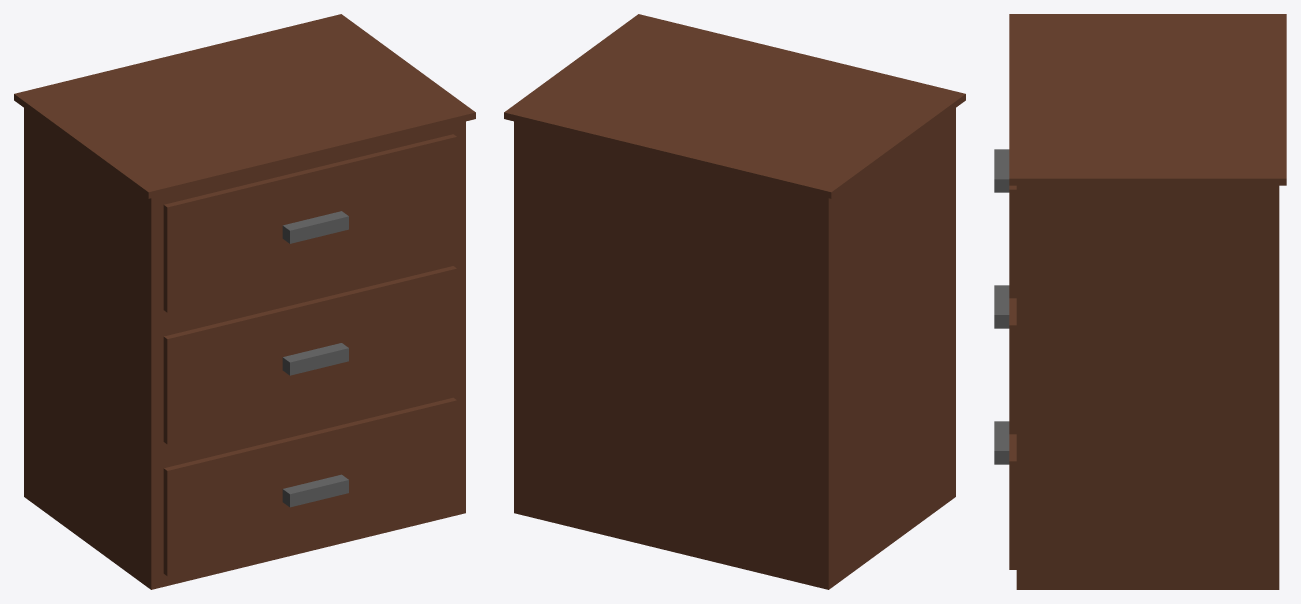
The model's file is charliroom_mesillanoche.fbx.
3 views of the same model, side by side, from view 1: azimuth 30°, elevation 25°; view 2: azimuth 150°, elevation 25°; view 3: azimuth 270°, elevation 25° (orthographic). The views are drawn at different scales.
Parts seen in each view (by area): view 1: mesilla_noche, cajon1, cajon2, cajon3; view 2: mesilla_noche; view 3: mesilla_noche, cajon2, cajon3, cajon1.
Part boxes in pixels (x1,y1,x2,y2): mesilla_noche: (14, 14, 475, 589); cajon1: (163, 134, 456, 312); cajon2: (163, 266, 456, 444); cajon3: (163, 397, 456, 576); mesilla_noche: (504, 14, 965, 589); mesilla_noche: (1009, 14, 1286, 589); cajon2: (994, 285, 1016, 434); cajon3: (994, 421, 1016, 569); cajon1: (994, 149, 1016, 298).
Bounding box in the file's own units: 52 × 61 × 39.
